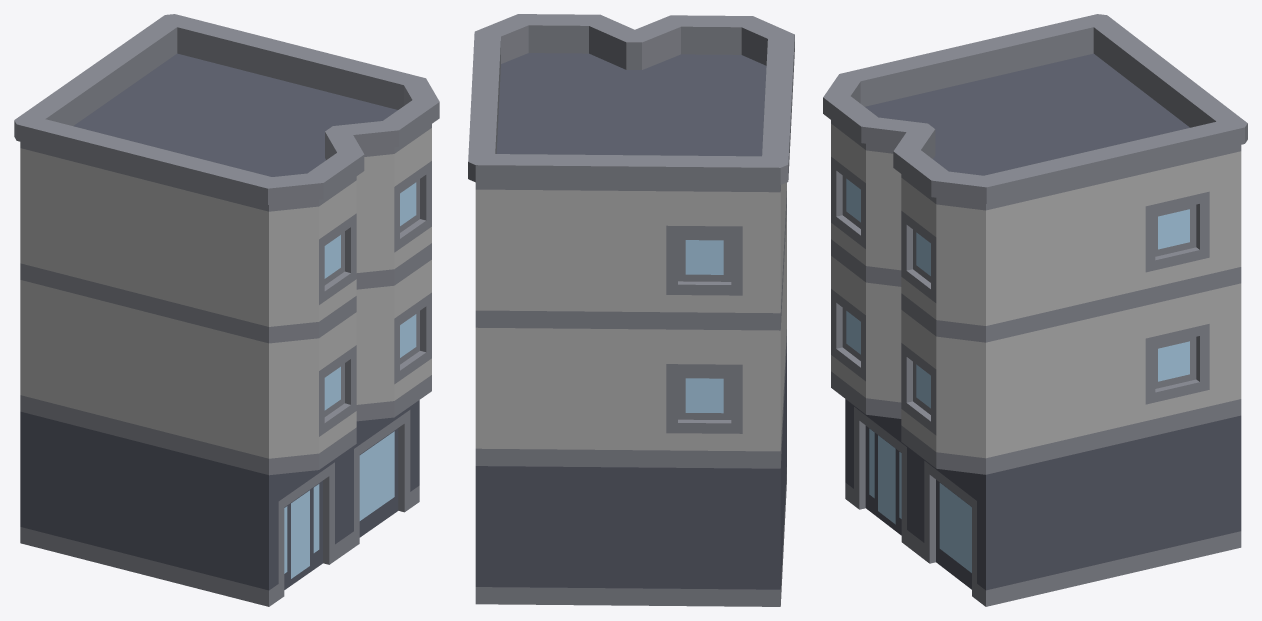
Rendered from variant_29.fbx.
The picture shows the model from 3 angles, left to right: view 1: azimuth 30°, elevation 25°; view 2: azimuth 150°, elevation 25°; view 3: azimuth 270°, elevation 25°; orthographic projection. The views are drawn at different scales.
Parts seen in each view (by area): view 1: small_buildingA; view 2: small_buildingA; view 3: small_buildingA.
Boxes of the visible parts, x1,y1,x2,y2 form: small_buildingA: [14, 14, 439, 606]; small_buildingA: [468, 14, 794, 606]; small_buildingA: [823, 14, 1247, 606].
Size of the model in its own units: 113 by 128 by 116.
